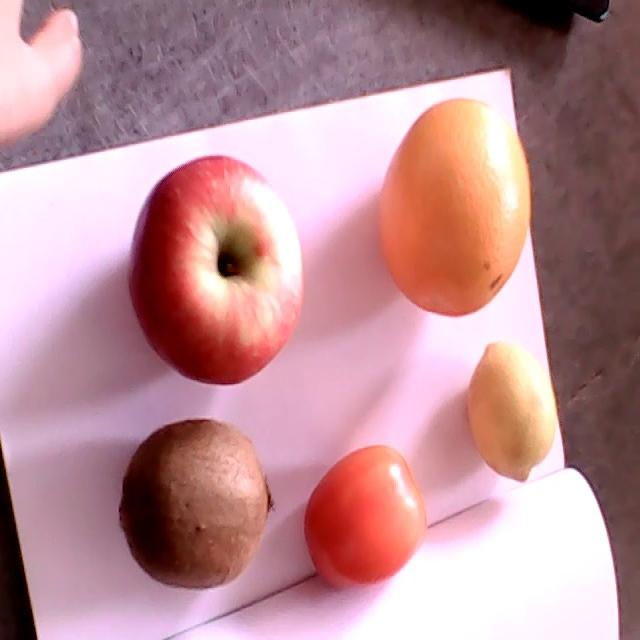apple: (127, 155, 304, 385)
kiwi: (116, 419, 276, 589)
lemon: (467, 341, 558, 483)
orange: (378, 99, 530, 315)
tomato: (304, 445, 429, 590)
